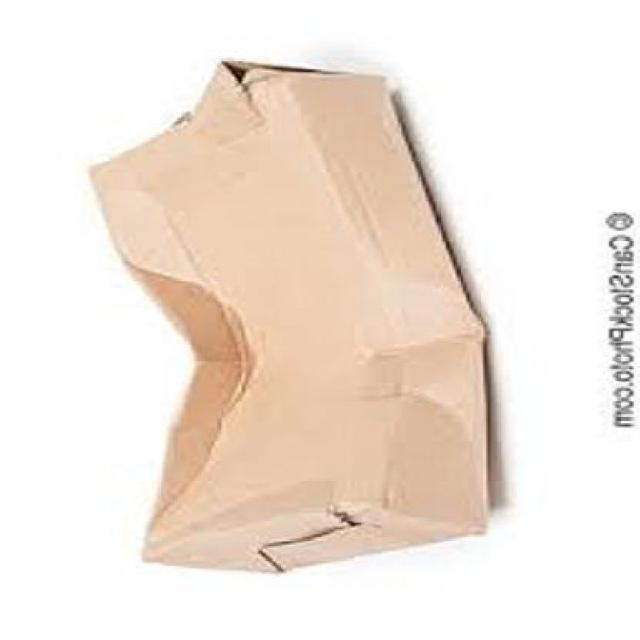defect: (77, 55, 509, 574)
